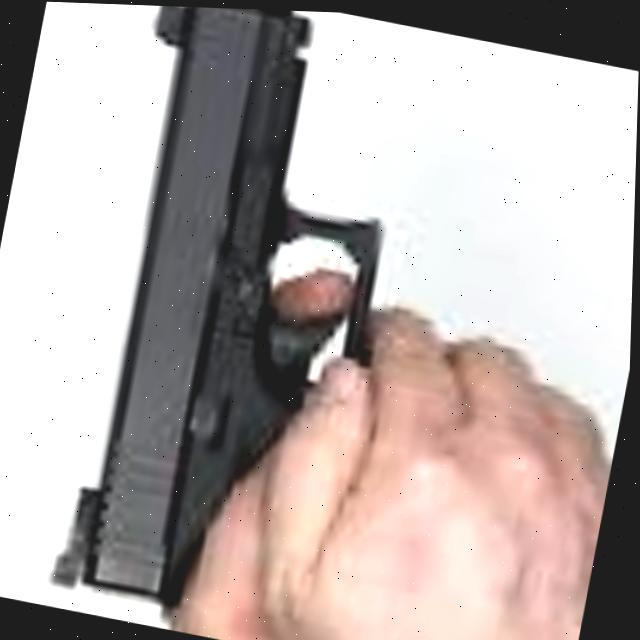pistol: (44, 2, 640, 640), (56, 5, 615, 640)
